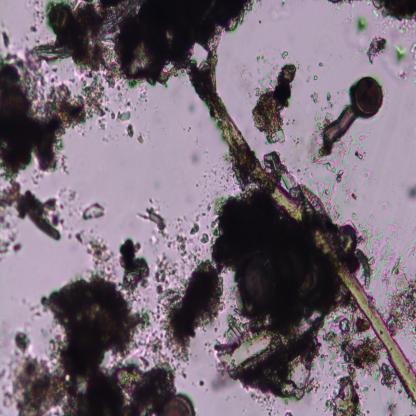Background material: (0, 249, 164, 415), (40, 1, 254, 86), (214, 184, 345, 318), (0, 39, 84, 181), (161, 260, 221, 357), (0, 182, 63, 256), (326, 318, 394, 381), (253, 62, 297, 146), (340, 213, 390, 286), (314, 103, 359, 165), (170, 198, 212, 260), (386, 267, 416, 338), (72, 228, 118, 274), (119, 233, 154, 291), (322, 373, 367, 415), (319, 162, 368, 200), (116, 88, 144, 142), (86, 74, 112, 121), (371, 1, 416, 28), (144, 200, 171, 238), (366, 32, 388, 66), (79, 196, 107, 221), (395, 43, 410, 80), (1, 16, 13, 51), (353, 15, 370, 32), (405, 177, 416, 201), (276, 47, 289, 59), (308, 97, 322, 106)
Diatom: (218, 308, 316, 378), (298, 185, 343, 260), (354, 76, 383, 115), (162, 393, 196, 416)
Microfibre: (194, 62, 416, 405)
